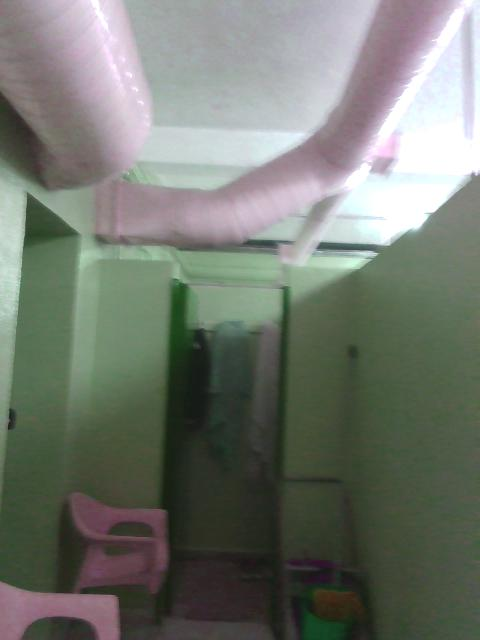open_door: (165, 256, 289, 639)
